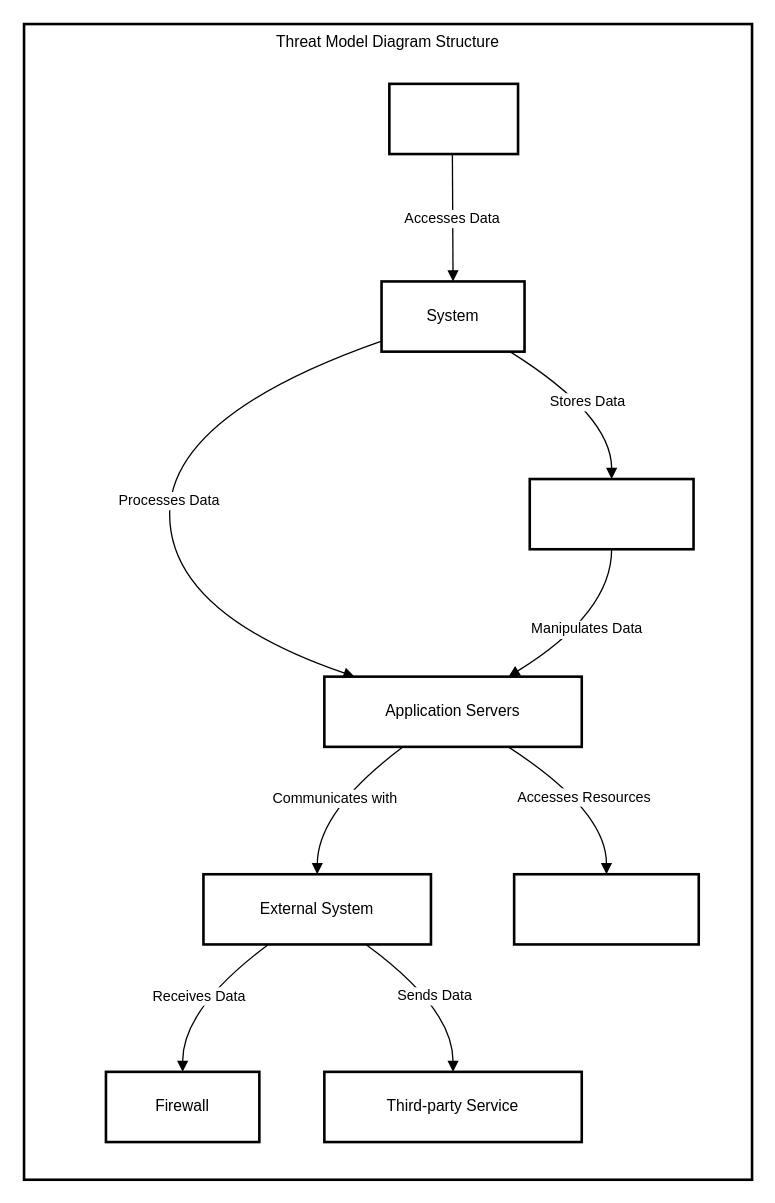
This 775x1203 diagram has some shape labels left out. The shapes that lost their labels are listed below. From the top down, each one's centre as x and y in pixels, then its label:
At point 453,118: "Actor".
At point 611,513: "Database".
At point 605,908: "File System".
